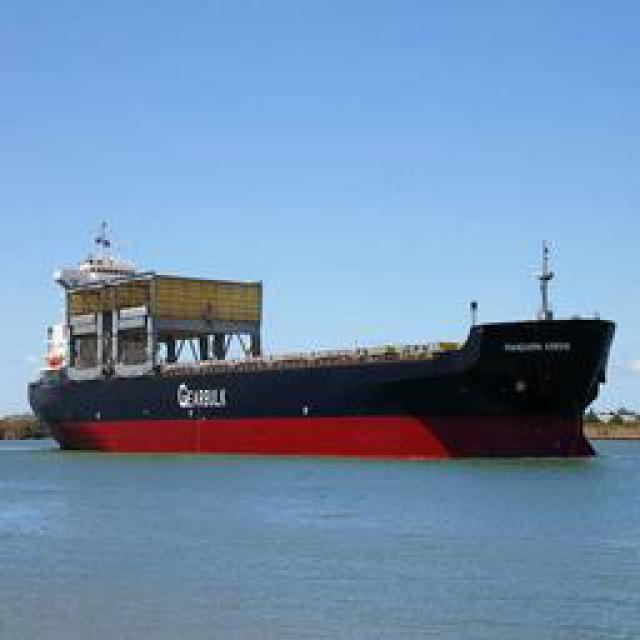Ship: (40, 224, 618, 447)
